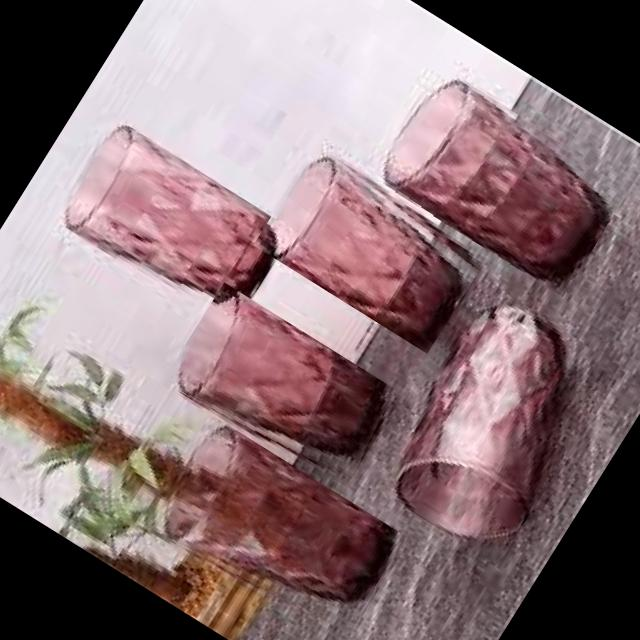Glass: (356, 274, 622, 562), (363, 55, 636, 296), (143, 414, 409, 640), (49, 116, 294, 330), (162, 282, 404, 494), (254, 142, 491, 352)
